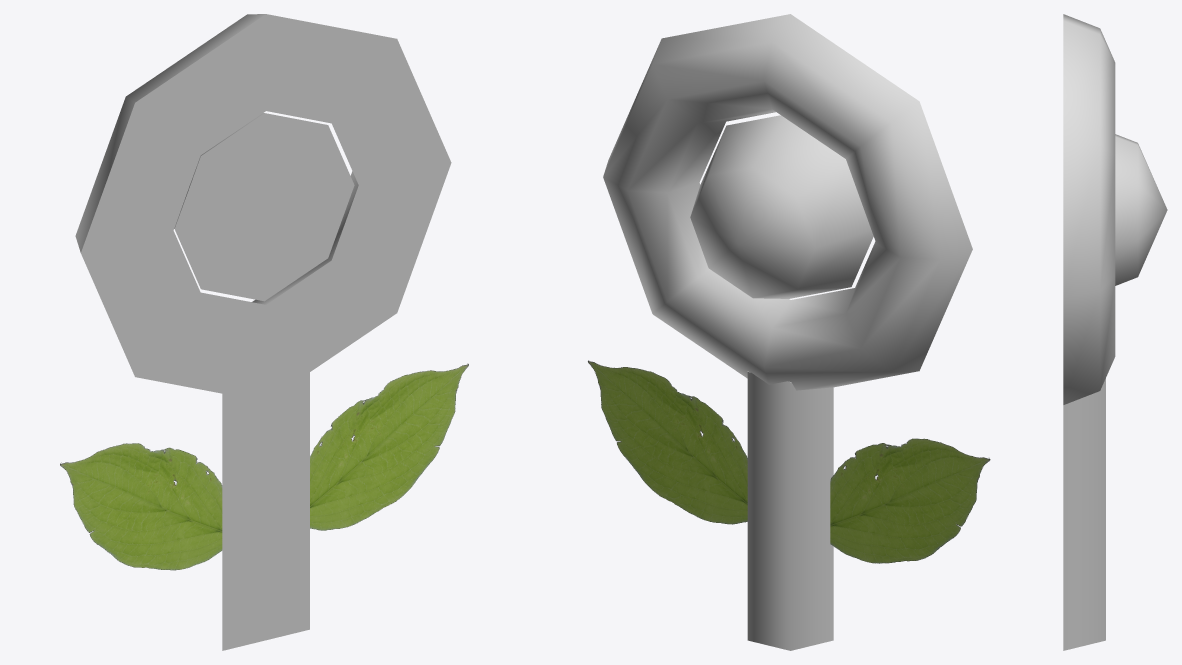
File: flower.fbx
3 views of the same model, side by side, from view 1: azimuth 30°, elevation 25°; view 2: azimuth 150°, elevation 25°; view 3: azimuth 270°, elevation 25° (orthographic). The views are drawn at different scales.
Visible parts, largest first — view 1: Torus001, Sphere001, Cylinder001, Plane002, Plane001; view 2: Torus001, Sphere001, Cylinder001, Plane002, Plane001; view 3: Torus001, Cylinder001, Sphere001.
Part boxes in pixels (x1=…): Torus001: x1=75, y1=14, x2=451, y2=393; Sphere001: x1=174, y1=113, x2=354, y2=301; Cylinder001: x1=222, y1=356, x2=309, y2=650; Plane002: x1=60, y1=443, x2=222, y2=570; Plane001: x1=310, y1=363, x2=468, y2=530; Torus001: x1=603, y1=14, x2=972, y2=390; Sphere001: x1=690, y1=115, x2=873, y2=298; Cylinder001: x1=747, y1=371, x2=833, y2=650; Plane002: x1=830, y1=438, x2=990, y2=563; Plane001: x1=588, y1=360, x2=747, y2=524; Torus001: x1=1063, y1=14, x2=1115, y2=404; Cylinder001: x1=1063, y1=378, x2=1105, y2=650; Sphere001: x1=1115, y1=134, x2=1167, y2=285.
Bounding box in the file's own units: 58.15 × 69.58 × 10.79.
